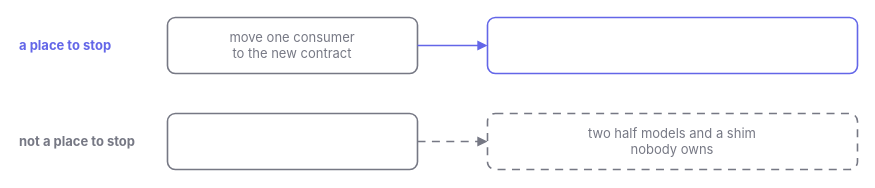
Image size: 875x188. Some labels were removed from this diagram. The centre of each missing label's shape, as x and y in pixels:
"one model, smaller scope, nothing left to explain" goes at point 672,45.
"stand up the new store, keep writing to both" goes at point 292,141.
